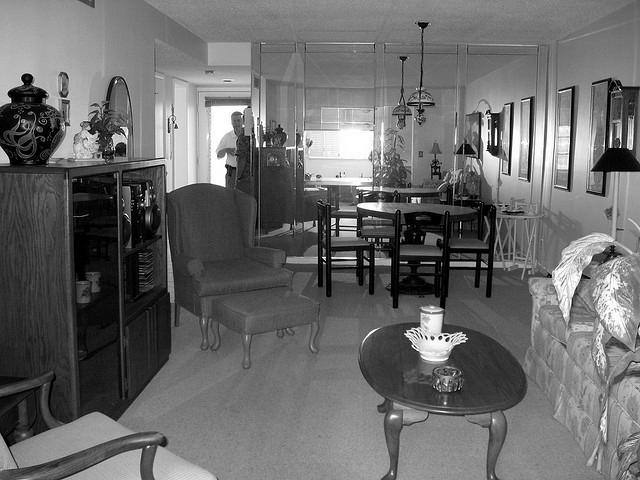glass: (419, 306, 443, 332), (76, 281, 91, 303)
